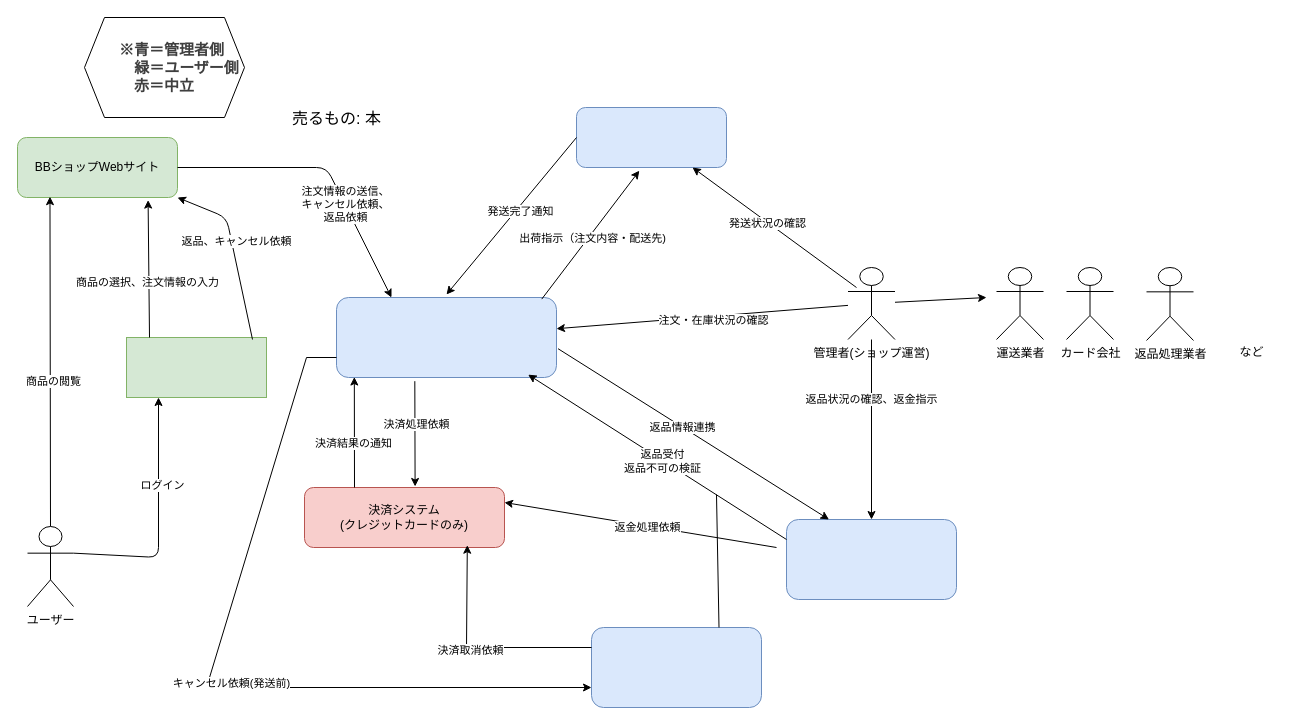
Some shapes in this 1294 by 725 pixel diagram are drawn without their labels. The shapes that lost their labels are listed below. From the top down, each one's box as (x1, y1, x2, y2) in pixels, then its label:
(576, 106, 726, 168): 発送管理 (国内のみ)
(336, 296, 556, 378): 注文管理システム (注文発生～発送完了管理)
(126, 336, 266, 398): ユーザー認証(ログイン)
(786, 518, 956, 600): 返品処理 (到着後10日以内)
(590, 626, 762, 708): 注文キャンセル処理 (発送前のみ)
